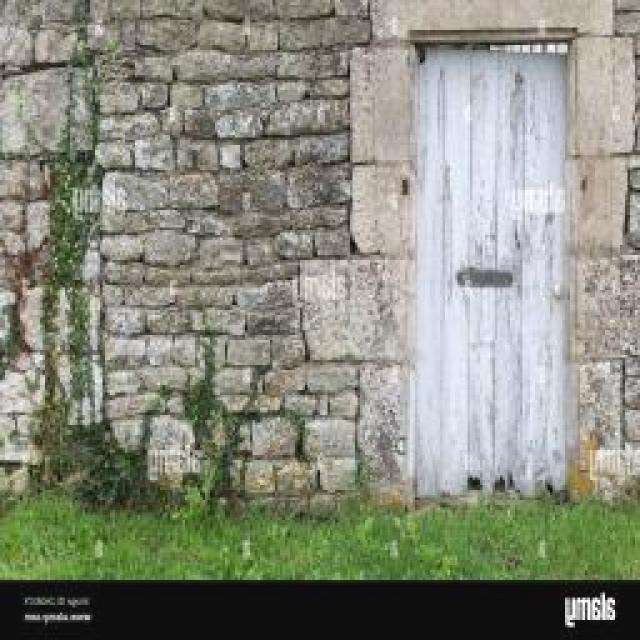Crack: (1, 0, 638, 515)
